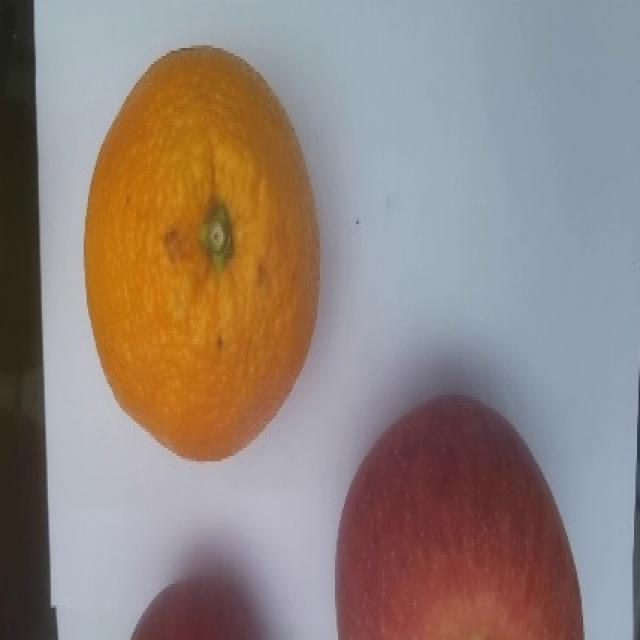Apple: (334, 393, 584, 639)
Orange: (82, 44, 321, 462)
